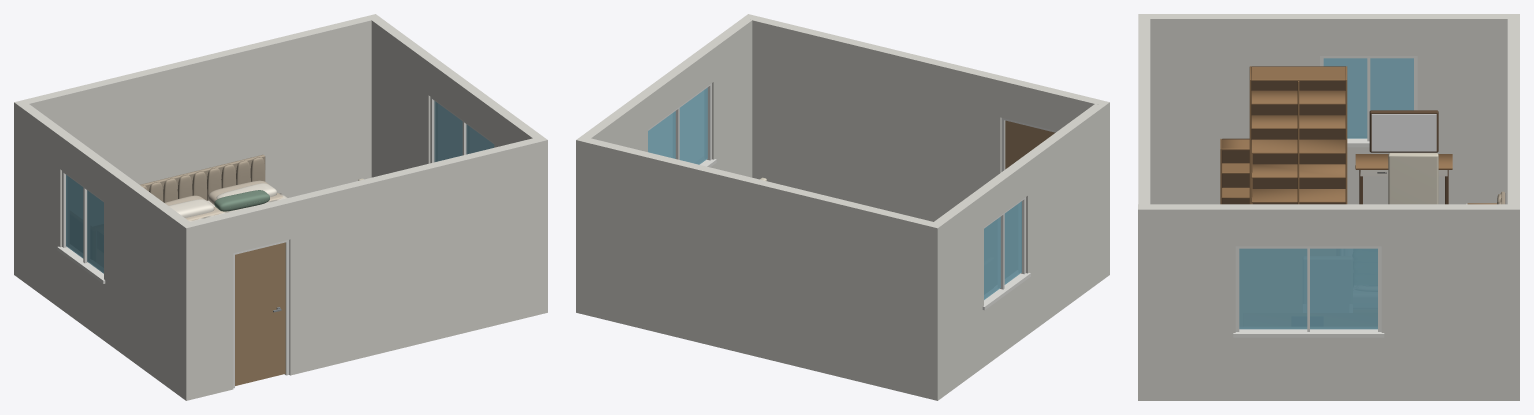
File: oursv11b.glb
The picture shows the model from 3 angles, left to right: view 1: azimuth 30°, elevation 25°; view 2: azimuth 150°, elevation 25°; view 3: azimuth 270°, elevation 25°; orthographic projection. The views are drawn at different scales.
Parts seen in each view (by area): view 1: wall|scenesmith_022__R00|0, wall|scenesmith_022__R00|1, wall|scenesmith_022__R00|2, wall|scenesmith_022__R00|3, wall|scenesmith_022__R00|0 Door 0 | wood leaf, V2 padded headboard backing, wall|scenesmith_022__R00|2 Window 0 | glazing, wall|scenesmith_022__R00|3 Window 0 | glazing, wall|scenesmith_022__R00|2 Window 0 | jamb, V2 cotton duvet folds, wall|scenesmith_022__R00|0 Door 0 | jamb, V2 lumbar accent pillow (+2 smaller); view 2: wall|scenesmith_022__R00|1, wall|scenesmith_022__R00|0, wall|scenesmith_022__R00|2, wall|scenesmith_022__R00|3, wall|scenesmith_022__R00|3 Window 0 | glazing, wall|scenesmith_022__R00|2 Window 0 | glazing, wall|scenesmith_022__R00|0 Door 0 | wood leaf, wall|scenesmith_022__R00|2 Window 0 | jamb, wall|scenesmith_022__R00|3 Window 0 | jamb; view 3: wall|scenesmith_022__R00|3, wall|scenesmith_022__R00|2, wall|scenesmith_022__R00|3 Window 0 | glazing, Bay divider, Carcass back, wall|scenesmith_022__R00|0, wall|scenesmith_022__R00|1, wall|scenesmith_022__R00|2 Window 0 | glazing, wall|scenesmith_022__R00|3 Window 0 | jamb, Backrest, Mirror, wall|scenesmith_022__R00|2 Window 0 | jamb.
Boxes of the visible parts, x1,y1,x2,y2 form: wall|scenesmith_022__R00|0: (180,136,547,400); wall|scenesmith_022__R00|1: (14,16,371,278); wall|scenesmith_022__R00|2: (19,104,189,396); wall|scenesmith_022__R00|3: (366,14,547,314); wall|scenesmith_022__R00|0 Door 0 | wood leaf: (235,242,285,385); V2 padded headboard backing: (140,154,265,202); wall|scenesmith_022__R00|2 Window 0 | glazing: (66,175,103,273); wall|scenesmith_022__R00|3 Window 0 | glazing: (434,101,494,162); wall|scenesmith_022__R00|2 Window 0 | jamb: (57,171,105,283); V2 cotton duvet folds: (168,183,287,221); wall|scenesmith_022__R00|0 Door 0 | jamb: (233,240,289,388); V2 lumbar accent pillow: (214,190,269,211); wall|scenesmith_022__R00|1: (576,138,943,400); wall|scenesmith_022__R00|0: (743,14,1109,278); wall|scenesmith_022__R00|2: (928,104,1104,396); wall|scenesmith_022__R00|3: (576,18,752,177); wall|scenesmith_022__R00|3 Window 0 | glazing: (648,87,707,164); wall|scenesmith_022__R00|2 Window 0 | glazing: (984,201,1021,299); wall|scenesmith_022__R00|0 Door 0 | wood leaf: (1005,120,1055,169); wall|scenesmith_022__R00|2 Window 0 | jamb: (982,197,1030,310); wall|scenesmith_022__R00|3 Window 0 | jamb: (648,83,716,167); wall|scenesmith_022__R00|3: (1138,204,1519,400); wall|scenesmith_022__R00|2: (1150,14,1517,204); wall|scenesmith_022__R00|3 Window 0 | glazing: (1239,248,1377,329); Bay divider: (1220,66,1496,204); Carcass back: (1221,66,1448,204); wall|scenesmith_022__R00|0: (1138,14,1150,400); wall|scenesmith_022__R00|1: (1507,14,1519,400); wall|scenesmith_022__R00|2 Window 0 | glazing: (1323,58,1413,138); wall|scenesmith_022__R00|3 Window 0 | jamb: (1233,246,1384,337); Backrest: (1388,153,1438,204); Mirror: (1371,114,1436,151); wall|scenesmith_022__R00|2 Window 0 | jamb: (1320,56,1417,147).
Bounding box in the file's own units: 5.76 × 2.61 × 4.7.
